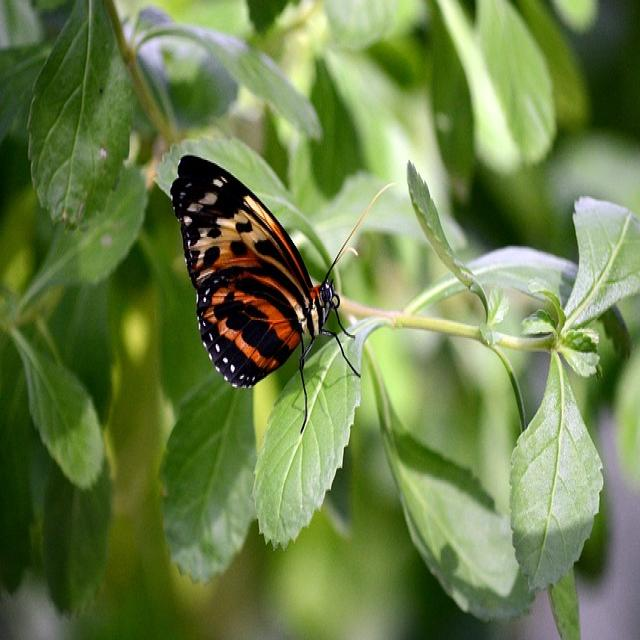butterfly: (171, 155, 337, 388)
